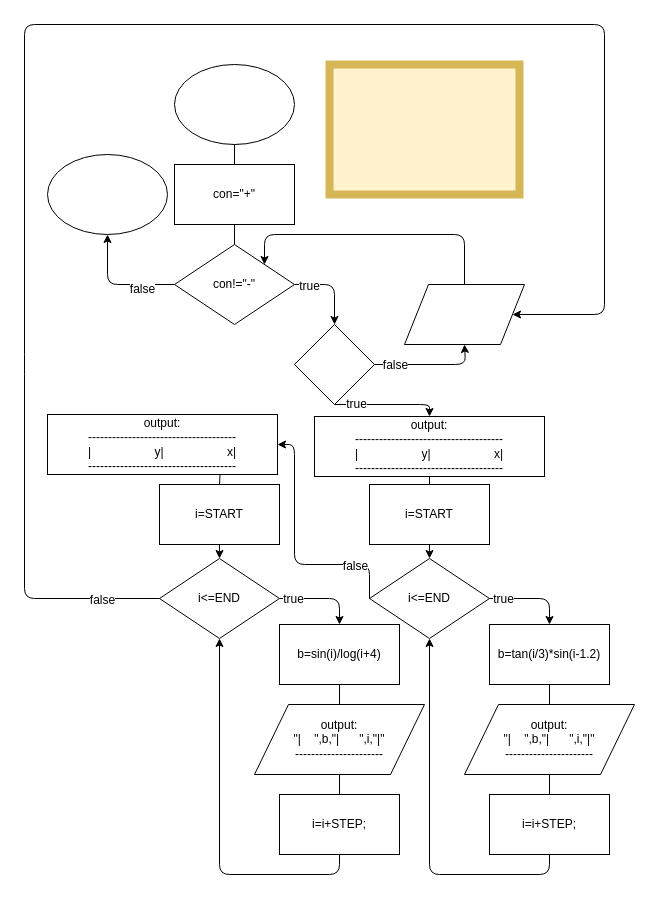
This 652x900 diagram has some shape labels left out. The shapes that lost their labels are listed below. From the top down, each one's centre as x and y in pixels, then its label:
[234,104]: Start
[424,129]: CONSTANTS STEP 0.2 START -2 END 5
[107,194]: end
[464,314]: input: con
[334,364]: con=="+"
